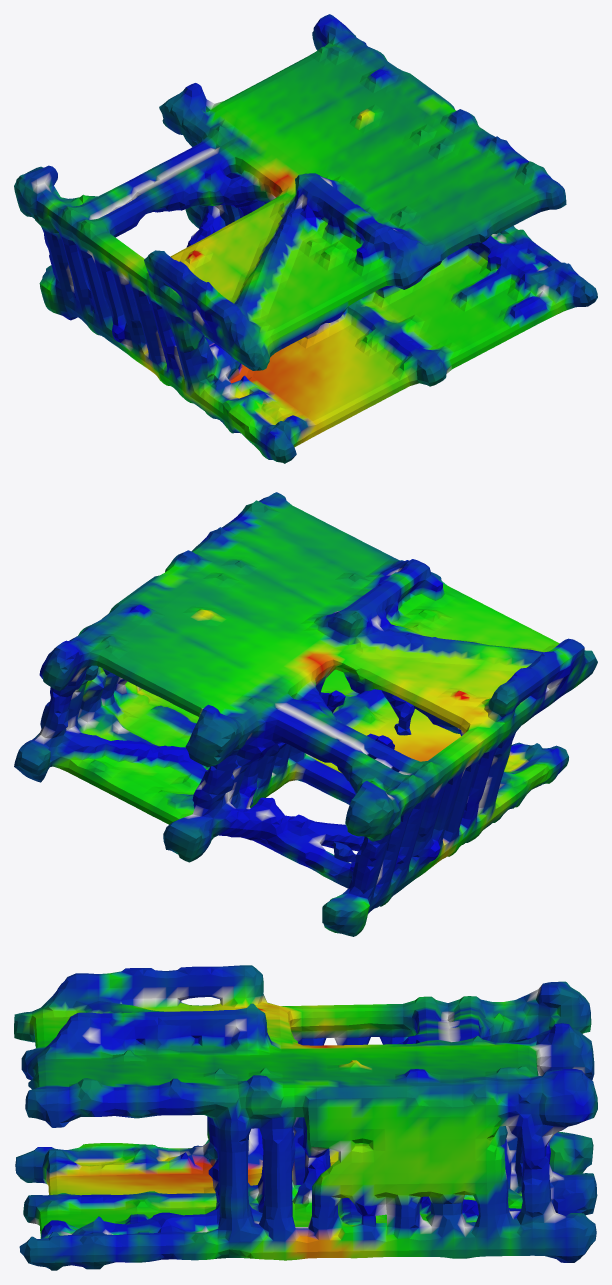
File: ScaffoldB.dae
The picture shows the model from 3 angles, top to bottom: view 1: azimuth 30°, elevation 25°; view 2: azimuth 150°, elevation 25°; view 3: azimuth 270°, elevation 25°; orthographic projection. The views are drawn at different scales.
Visible parts, largest first — view 1: node; view 2: node; view 3: node.
Boxes of the visible parts, x1,y1,x2,y2 form: node: [14, 14, 597, 463]; node: [14, 492, 597, 936]; node: [14, 965, 597, 1270].
Bounding box in the file's own units: 3.05 × 1.79 × 3.4.
